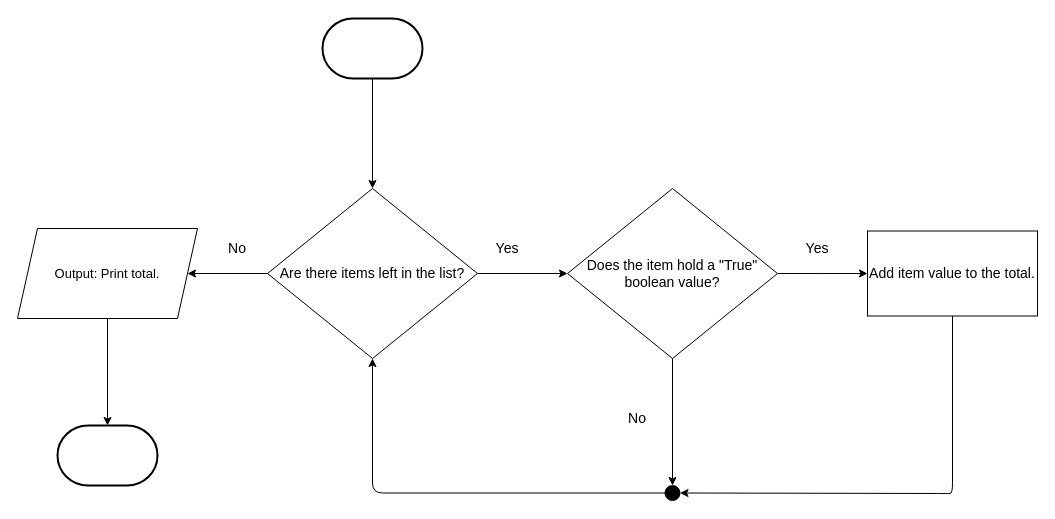
This 1055x519 diagram has some shape labels left out. The centre of each missing label's shape, as x and y in pixels:
End: point 107,455
Start: point 372,48
